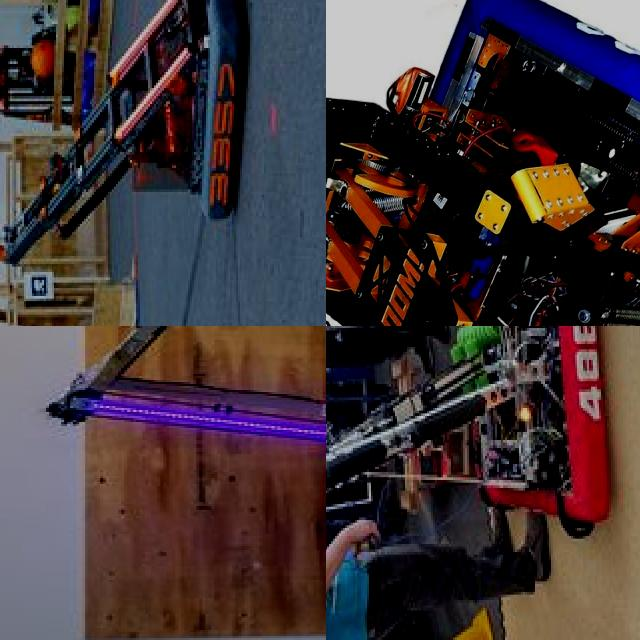FRC-Robots: (326, 0, 640, 326), (0, 0, 253, 291), (326, 326, 614, 550), (30, 326, 326, 493)
